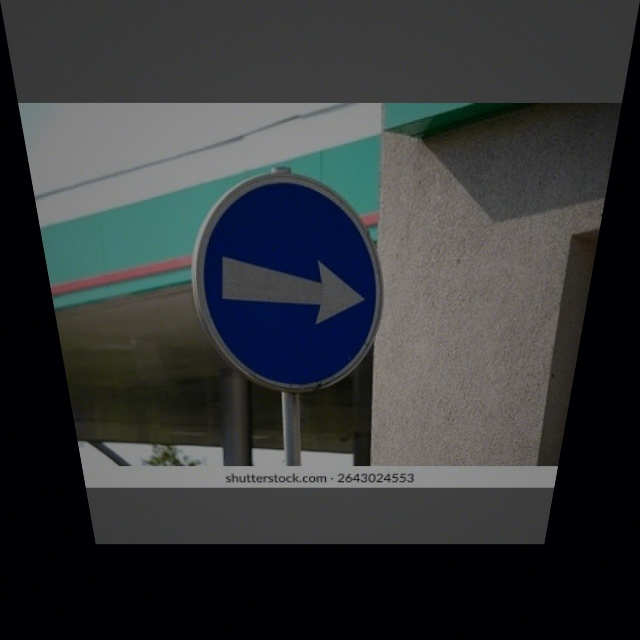Compulsory_Turn_Right: (189, 170, 394, 393)
